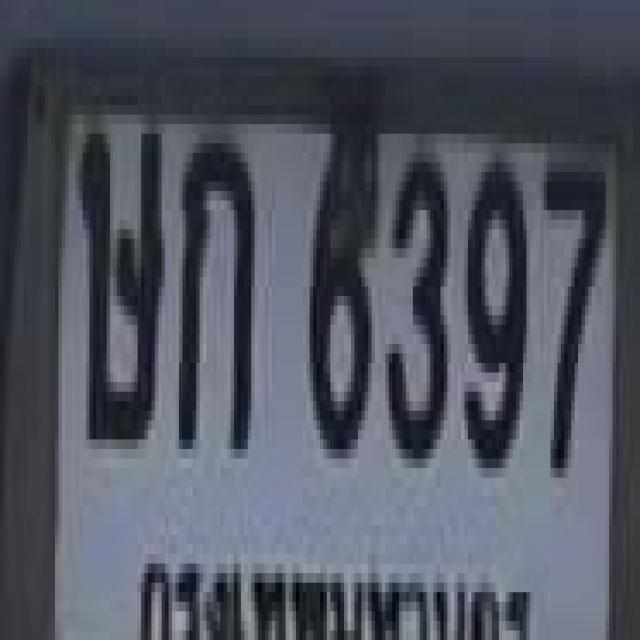3: (384, 138, 446, 454)
6: (306, 115, 375, 449)
7: (540, 153, 602, 468)
9: (461, 153, 523, 458)
A01: (176, 129, 251, 444)
A39: (78, 114, 164, 440)
